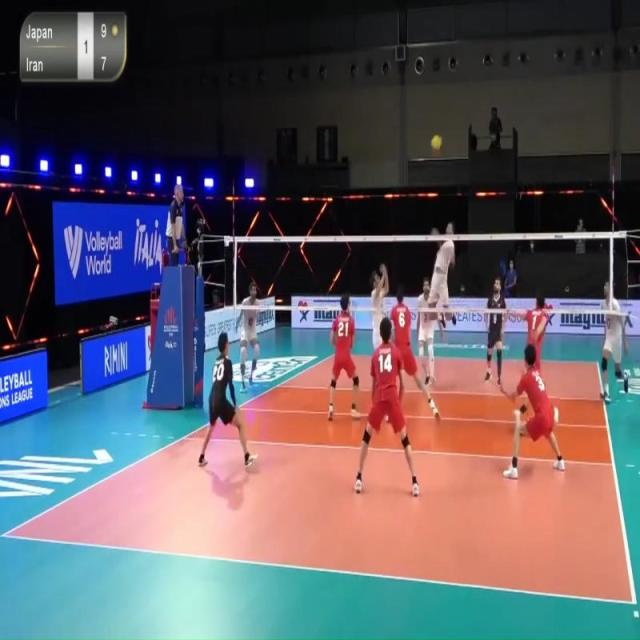volleyball: (431, 132, 442, 152)
